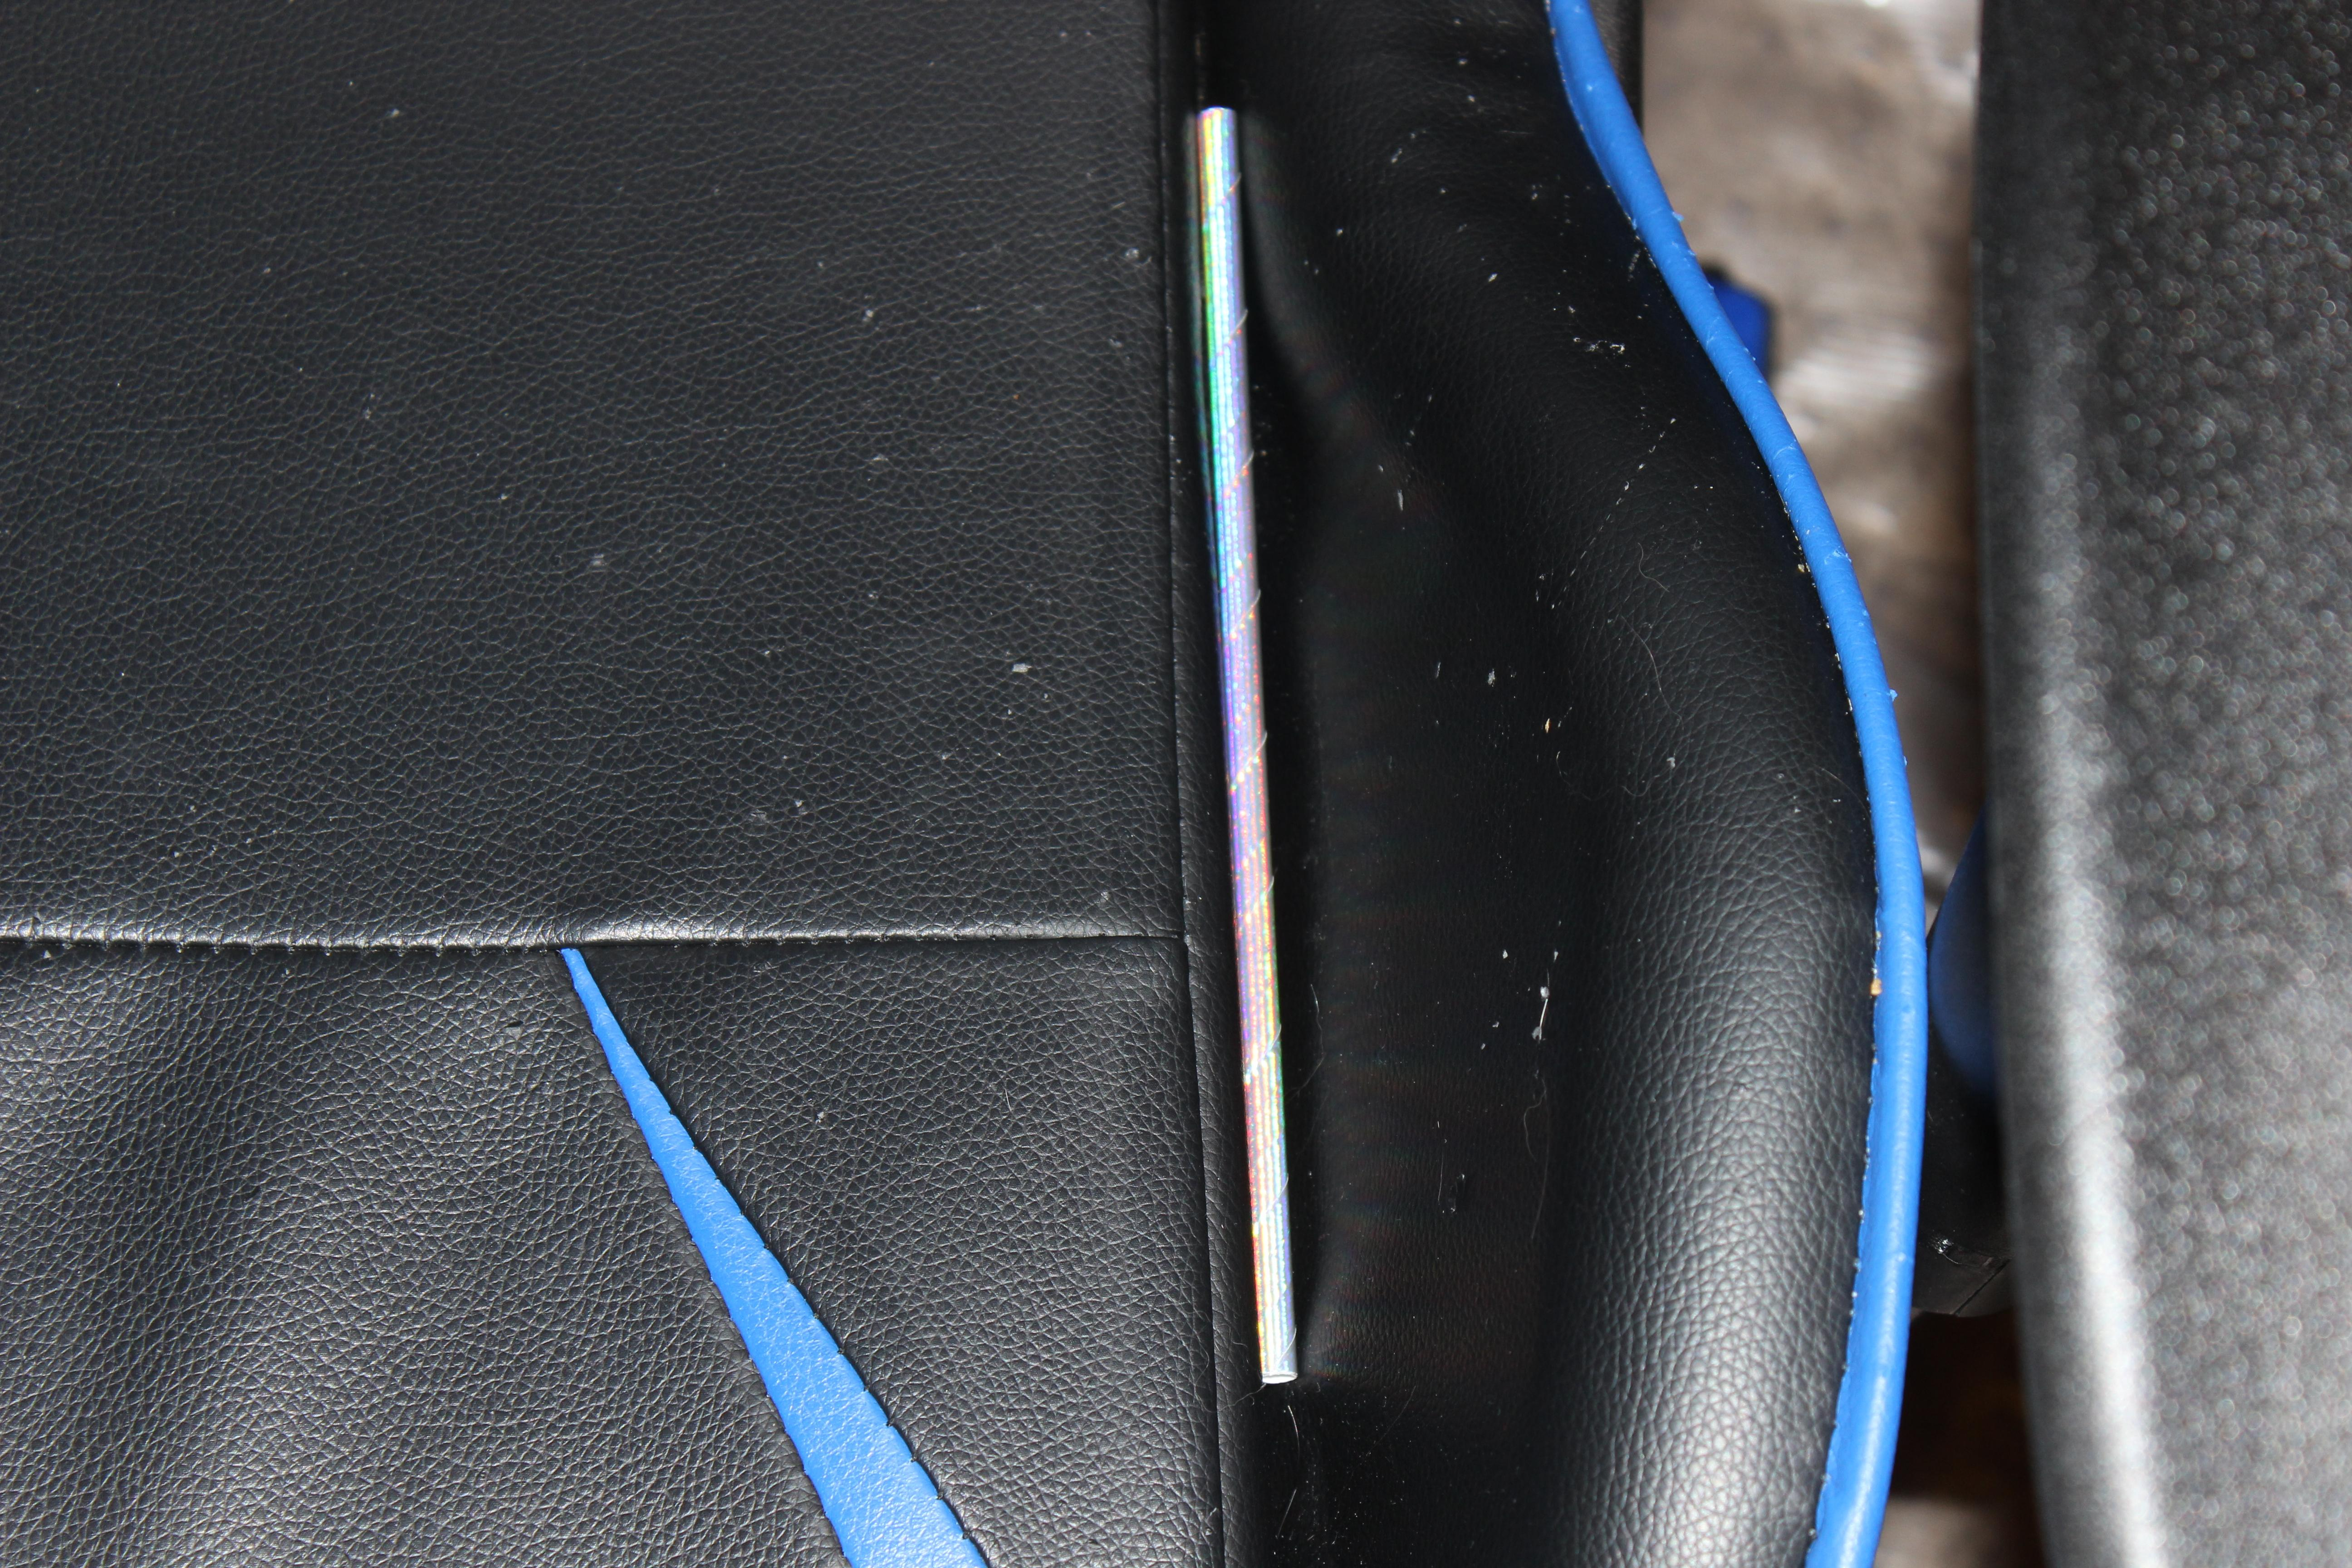silverStraw: (1141, 73, 1349, 1416)
